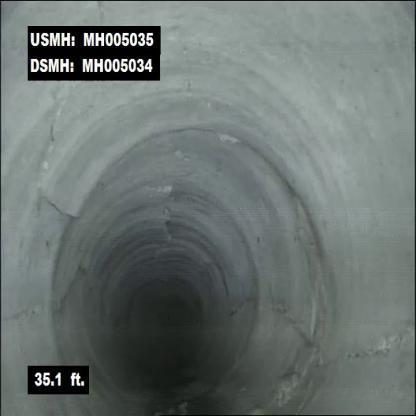crack: (31, 101, 83, 223), (326, 324, 415, 388), (278, 300, 317, 346), (4, 302, 56, 323), (95, 1, 109, 24)
